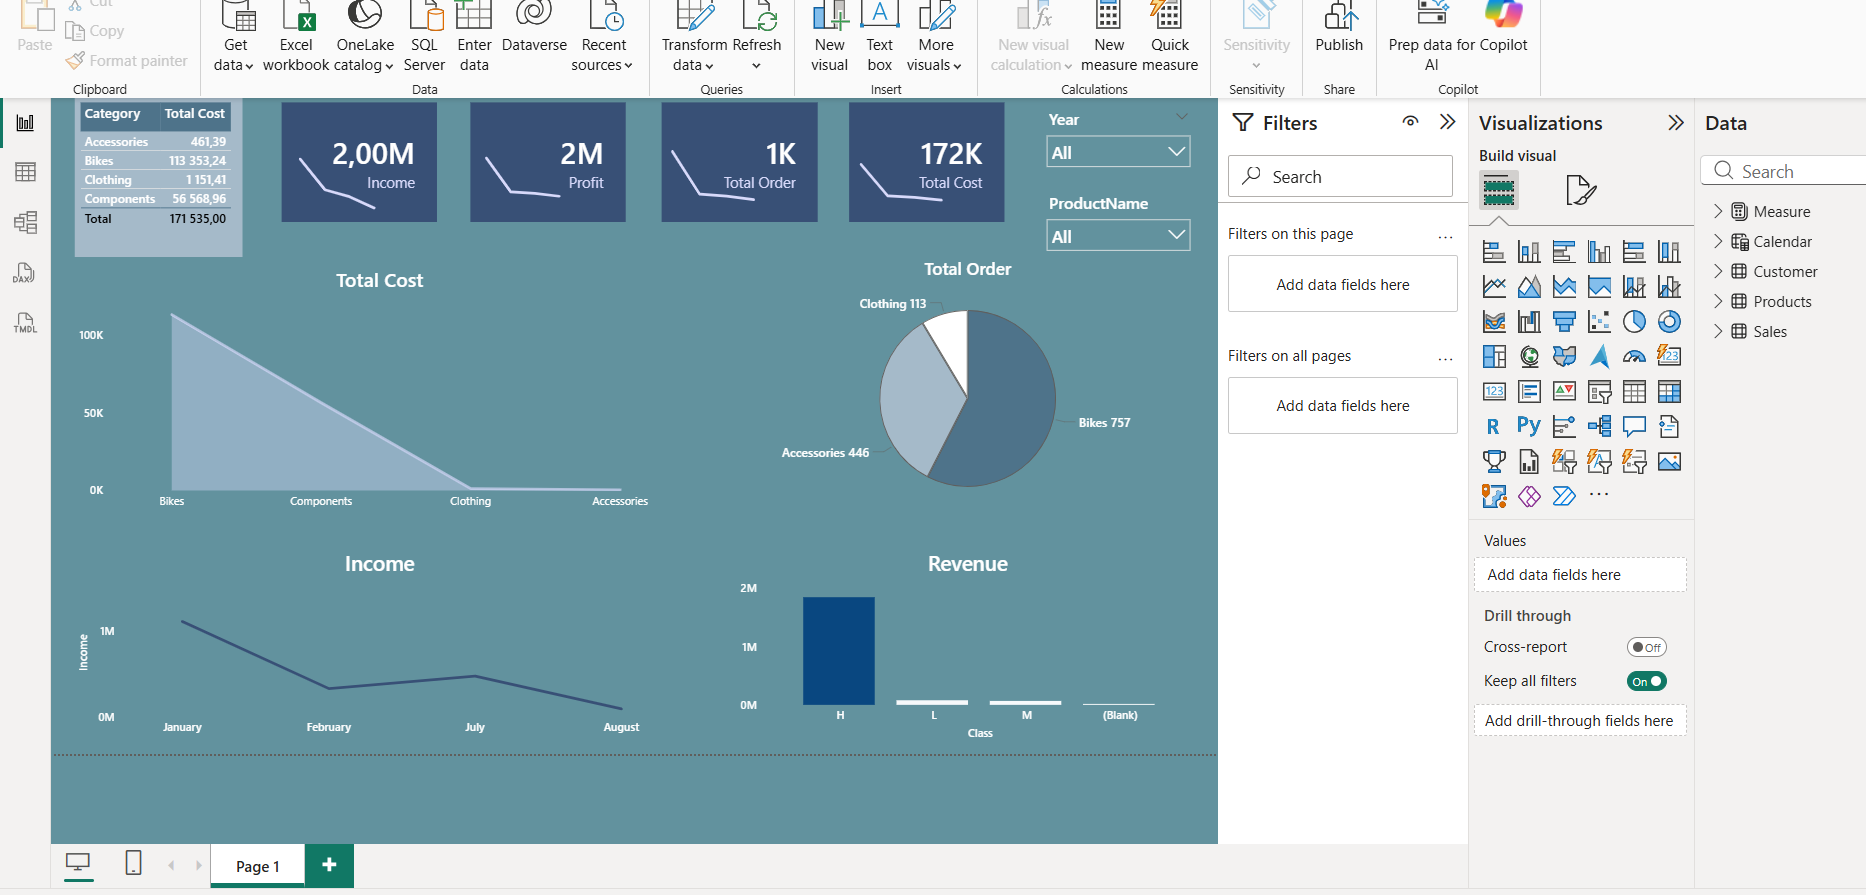

This screenshot's page, from the dashboard's own definition file:
{"tool":"powerbi","page":{"name":"Page 1","canvas":[1280,720],"ordinal":0},"visuals":[{"type":"cardVisual","fields":{"Data":["Measure.Income"]},"box":[248.2,0,180.5,141.2],"z":0,"group":"g2"},{"type":"cardVisual","fields":{"Data":["Measure.Profit"]},"box":[455.3,0,180.5,141.2],"z":1000,"group":"g2"},{"type":"cardVisual","fields":{"Data":["Measure.Total Order"]},"box":[665.2,0,181.4,141.2],"z":2000,"group":"g2"},{"type":"cardVisual","fields":{"Data":["Measure.Total Cost"]},"box":[871.2,0,180.5,141.2],"z":3000,"group":"g2"},{"type":"slicer","fields":{"Values":["Calendar.Year"]},"box":[1081.8,6.9,178.2,74.3],"z":4000,"group":"g1"},{"type":"slicer","fields":{"Values":["Products.ProductName"]},"box":[1081.8,98.1,178.2,76],"z":5000,"group":"g1"},{"type":"lineChart","fields":{"Y":["Measure.Total Order"],"Category":["Calendar.Month Name"]},"box":[665.2,20.6,122.9,98.7],"z":6000,"group":"g2"},{"type":"lineChart","fields":{"Y":["Measure.Total Order"],"Category":["Calendar.Month Name"]},"box":[871.4,41.1,121.4,78.1],"z":7000,"group":"g2"},{"type":"lineChart","fields":{"Y":["Measure.Income"],"Category":["Calendar.Month Name"]},"box":[258.4,32.9,112.7,98.7],"z":9000,"group":"g2"},{"type":"pieChart","title":"Total Order  ","fields":{"Category":["Products.Category"],"Y":["Measure.Total Order"]},"box":[751.3,174.1,508.7,286.5],"z":10000},{"type":"stackedAreaChart","title":"Total Cost ","fields":{"Category":["Products.Category"],"Y":["Measure.Total Cost"]},"box":[26,183.7,669.1,277],"z":11000},{"type":"tableEx","fields":{"Values":["Products.Category","Measure.Total Cost"]},"box":[26,0,183.7,174.1],"z":12000},{"type":"lineChart","title":"Income  ","fields":{"Y":["Measure.Income"],"Category":["Calendar.Month Name"]},"box":[26,493.6,669.1,215.3],"z":13000},{"type":"clusteredColumnChart","title":"Revenue  ","fields":{"Y":["Measure.Revenue"],"Category":["Products.Class"]},"box":[751.3,493.6,508.7,215.3],"z":14000},{"type":"lineChart","fields":{"Y":["Measure.Total Order"],"Category":["Calendar.Month Name"]},"box":[461.8,32.9,111.2,82.3],"z":14001,"group":"g2"},{"type":"group","id":"g1","title":"Group 1","box":[1081.8,6.9,178.2,167.3],"z":14002},{"type":"group","id":"g2","title":"Group 2","box":[248.2,0,803.4,141.2],"z":14003}]}

Visuals, with their boxes on the page's 1280x720 design canvas (x1, y1, x2, y2). These are canvas units, not pixel positions in the 1866x895 screenshot, which may show the page scaled, cropped or inside an application window:
cardVisual - Measure.Income: [x1=248, y1=0, x2=429, y2=141]
cardVisual - Measure.Profit: [x1=455, y1=0, x2=636, y2=141]
cardVisual - Measure.Total Order: [x1=665, y1=0, x2=847, y2=141]
cardVisual - Measure.Total Cost: [x1=871, y1=0, x2=1052, y2=141]
slicer - Calendar.Year: [x1=1082, y1=7, x2=1260, y2=81]
slicer - Products.ProductName: [x1=1082, y1=98, x2=1260, y2=174]
lineChart - Measure.Total Order x Calendar.Month Name: [x1=665, y1=21, x2=788, y2=119]
lineChart - Measure.Total Order x Calendar.Month Name: [x1=871, y1=41, x2=993, y2=119]
lineChart - Measure.Income x Calendar.Month Name: [x1=258, y1=33, x2=371, y2=132]
"Total Order  " pieChart: [x1=751, y1=174, x2=1260, y2=461]
"Total Cost " stackedAreaChart: [x1=26, y1=184, x2=695, y2=461]
tableEx - Products.Category x Measure.Total Cost: [x1=26, y1=0, x2=210, y2=174]
"Income  " lineChart: [x1=26, y1=494, x2=695, y2=709]
"Revenue  " clusteredColumnChart: [x1=751, y1=494, x2=1260, y2=709]
lineChart - Measure.Total Order x Calendar.Month Name: [x1=462, y1=33, x2=573, y2=115]
"Group 1" group: [x1=1082, y1=7, x2=1260, y2=174]
"Group 2" group: [x1=248, y1=0, x2=1052, y2=141]
